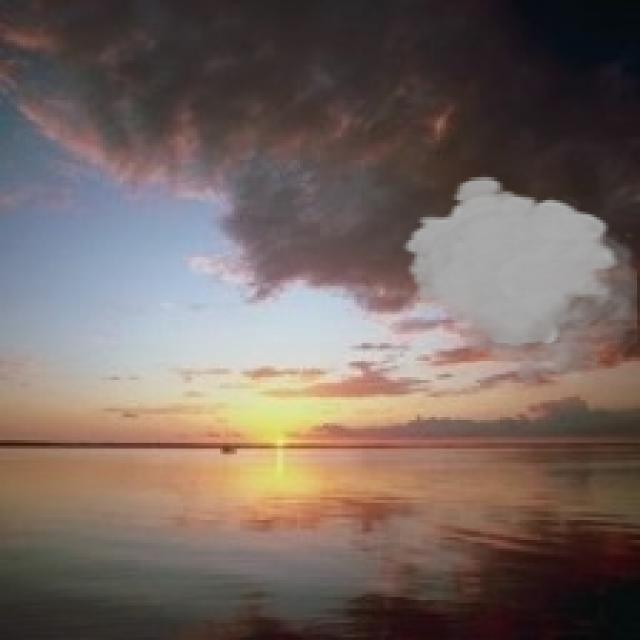Smoke: (400, 175, 637, 392)
